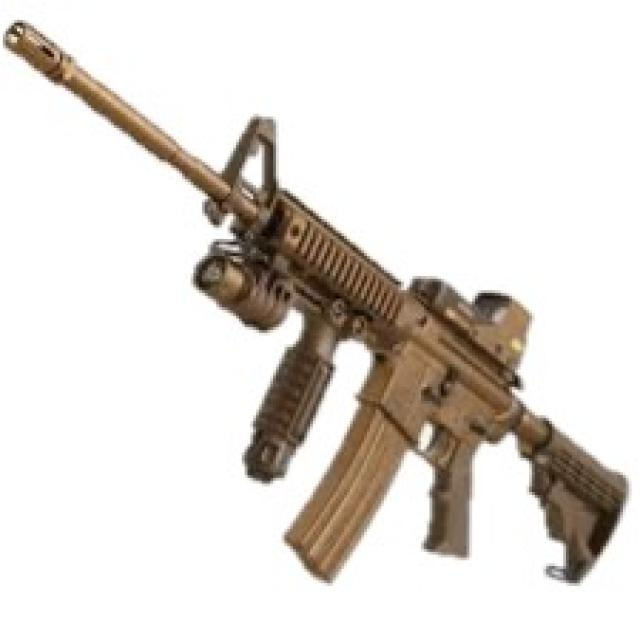rifle: (2, 9, 630, 589)
